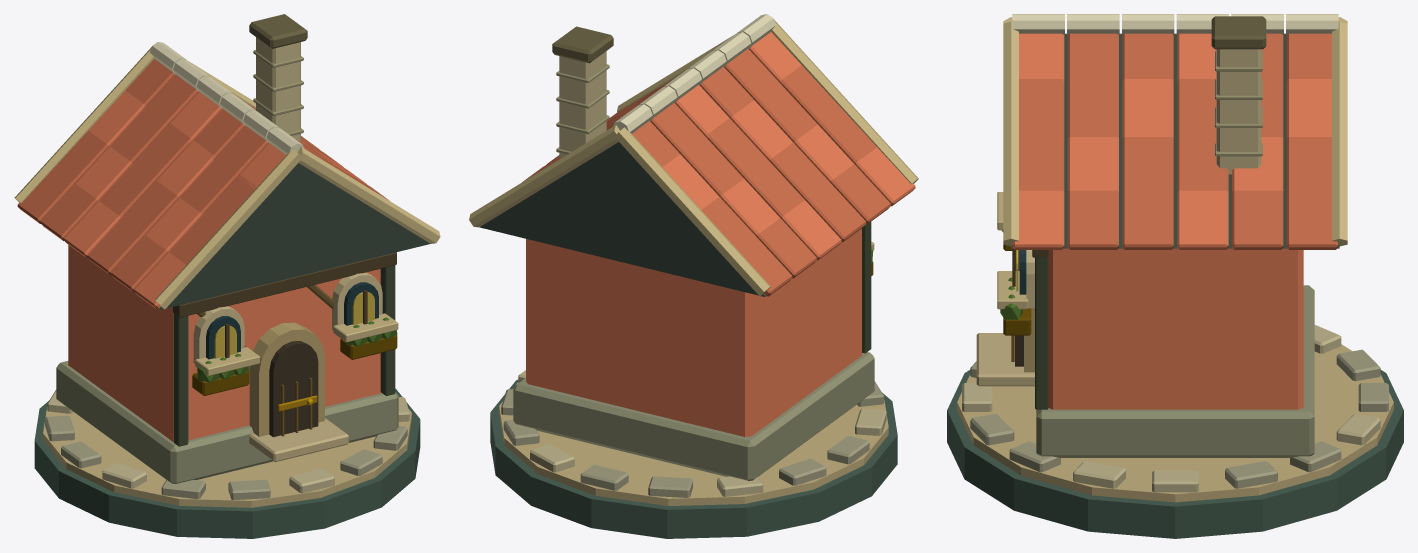
Rendered from village_timber.glb.
The picture shows the model from 3 angles, left to right: view 1: azimuth 30°, elevation 25°; view 2: azimuth 150°, elevation 25°; view 3: azimuth 270°, elevation 25°; orthographic projection. The views are drawn at different scales.
Visible parts, largest first — view 1: village_timber_static, village_timber_owner; view 2: village_timber_static, village_timber_owner; view 3: village_timber_owner, village_timber_static.
Boxes of the visible parts, <box> form: village_timber_static: <box>14,14,440,538</box>; village_timber_owner: <box>17,59,389,441</box>; village_timber_static: <box>469,14,918,538</box>; village_timber_owner: <box>522,32,915,436</box>; village_timber_owner: <box>1013,33,1337,409</box>; village_timber_static: <box>947,14,1403,538</box>.
Size of the model in its own units: 0.41 by 0.457 by 0.41.
